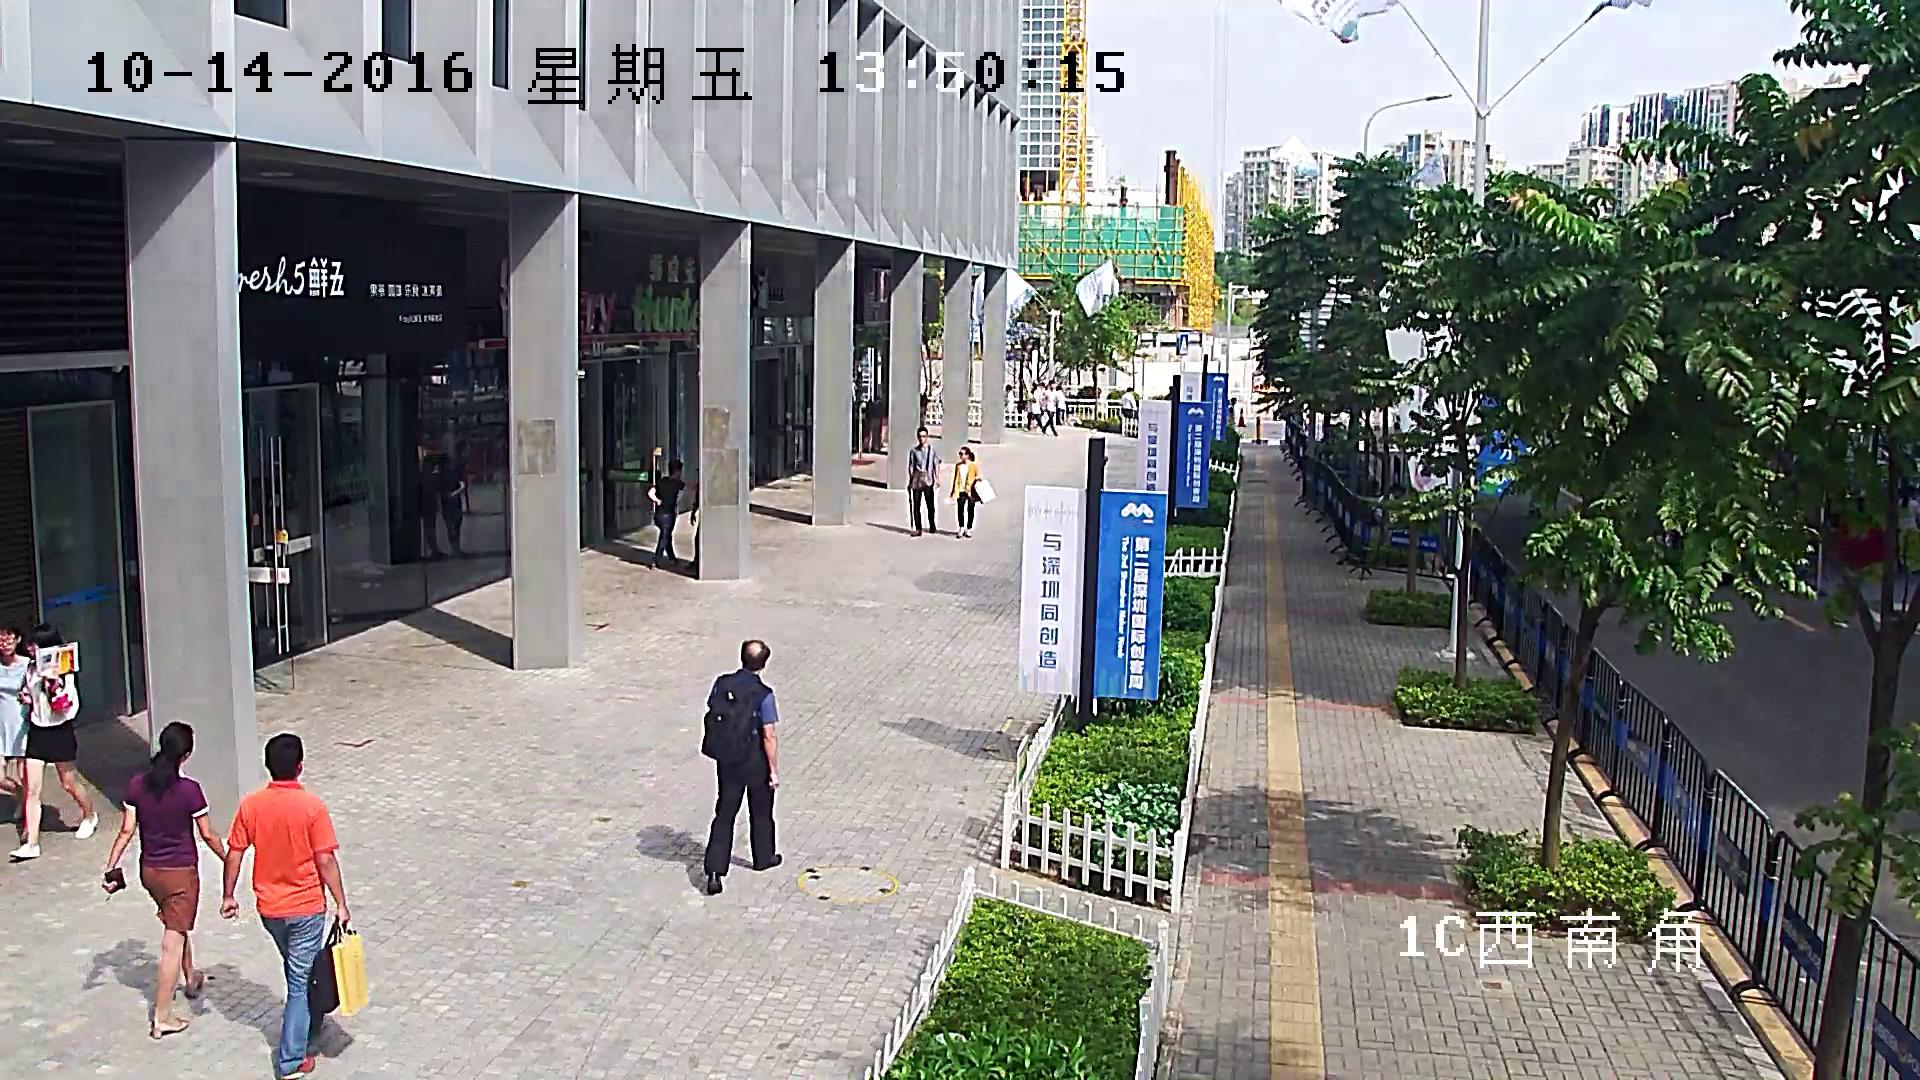person: (221, 734, 363, 1080), (102, 722, 222, 1039), (702, 639, 781, 894), (10, 624, 96, 859), (0, 620, 32, 859), (648, 459, 696, 570), (950, 446, 996, 538), (907, 427, 941, 536), (437, 453, 465, 557), (420, 455, 437, 562), (1040, 380, 1059, 435), (1024, 383, 1042, 432), (1120, 387, 1136, 417), (1055, 385, 1065, 424), (1002, 384, 1011, 407)
